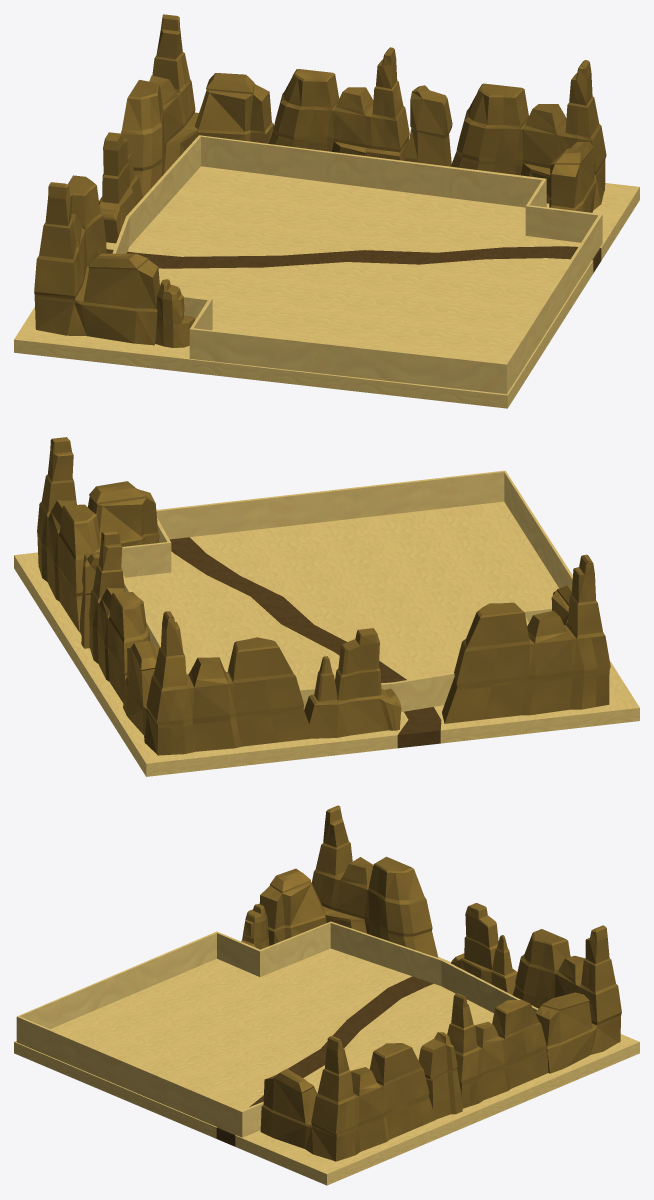
Rendered from map1.fbx.
3 renders of one model, top to bottom at view 1: azimuth 30°, elevation 25°; view 2: azimuth 150°, elevation 25°; view 3: azimuth 270°, elevation 25°, orthographic. The views are drawn at different scales.
Visible parts, largest first — view 1: Ground, Wall, Mountain5, Mountain3, Mountain, Mountain6, Mountain4, Mountain7, Mountain2; view 2: Ground, Mountain, Mountain5, Wall, Mountain3, Mountain4, Mountain6, Mountain7; view 3: Ground, Wall, Mountain3, Mountain5, Mountain, Mountain6, Mountain4, Mountain7, Mountain2.
Part boxes in pixels (x1,y1,x2,y2): Ground: (14, 166, 639, 408); Wall: (112, 135, 602, 394); Mountain5: (34, 175, 159, 345); Mountain3: (451, 60, 606, 212); Mountain: (120, 14, 273, 197); Mountain6: (269, 47, 409, 160); Mountain4: (99, 132, 142, 243); Mountain7: (405, 85, 452, 166); Mountain2: (155, 279, 194, 347); Ground: (14, 501, 639, 776); Mountain: (123, 611, 313, 755); Mountain5: (442, 554, 610, 723); Wall: (121, 470, 572, 711); Mountain3: (37, 437, 159, 632); Mountain4: (304, 628, 401, 738); Mountain6: (89, 530, 149, 702); Mountain7: (80, 552, 99, 648); Ground: (14, 948, 639, 1185); Wall: (16, 921, 538, 1137); Mountain3: (260, 1035, 435, 1161); Mountain5: (259, 805, 438, 957); Mountain: (512, 925, 621, 1073); Mountain6: (447, 993, 548, 1108); Mountain4: (451, 903, 517, 994); Mountain7: (418, 1032, 462, 1119); Mountain2: (241, 904, 269, 949).
Size of the model in its own units: 58.61 by 13.8 by 58.61.
